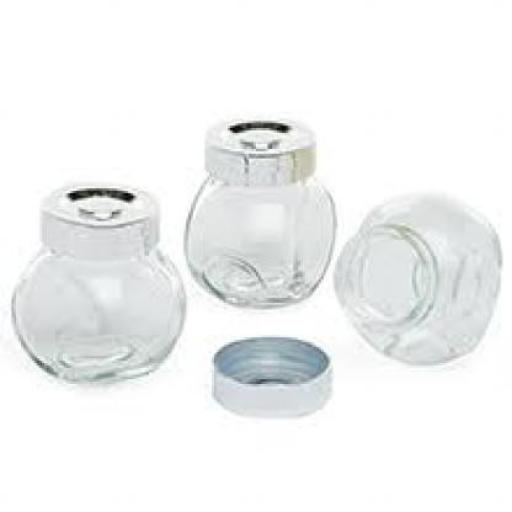glass: (330, 193, 498, 363), (6, 244, 182, 382), (182, 175, 330, 305)
metal: (210, 333, 330, 417), (42, 177, 154, 251), (202, 116, 312, 184)
